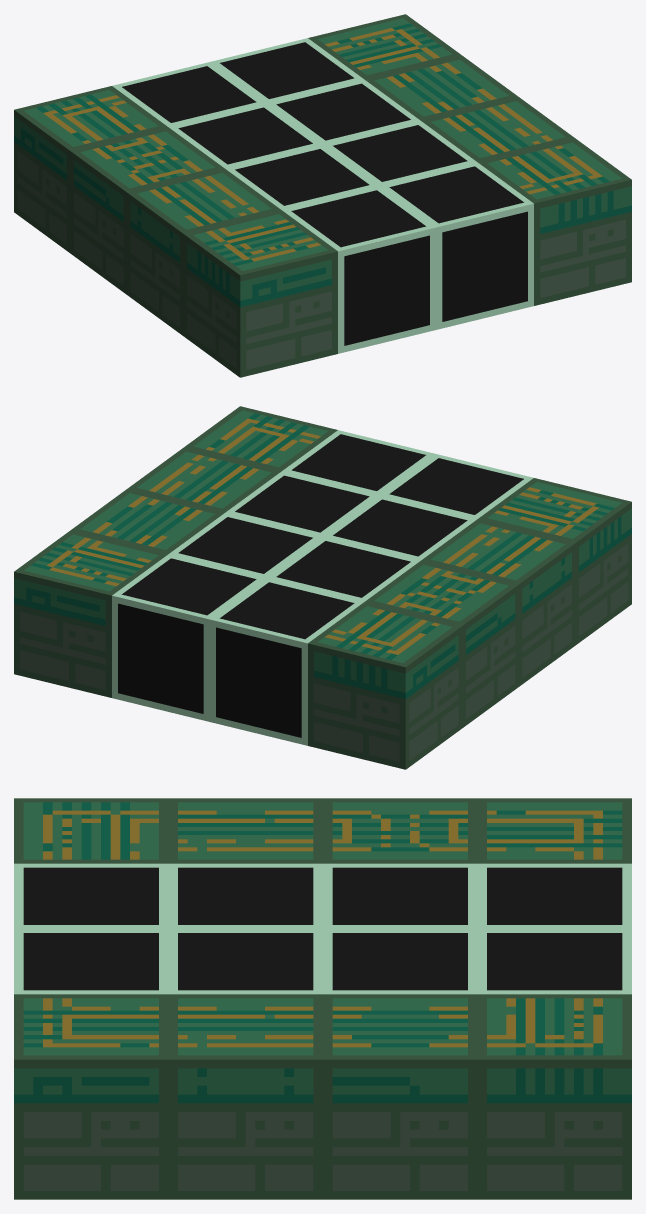
File: m_tiles_8_4x4.fbx
The picture shows the model from 3 angles, top to bottom: view 1: azimuth 30°, elevation 25°; view 2: azimuth 150°, elevation 25°; view 3: azimuth 270°, elevation 25°; orthographic projection. The views are drawn at different scales.
Visible parts, largest first — view 1: m_tiles_8_4x4; view 2: m_tiles_8_4x4; view 3: m_tiles_8_4x4.
Part boxes in pixels (bbox=[...]): m_tiles_8_4x4: bbox=[14, 14, 631, 377]; m_tiles_8_4x4: bbox=[14, 406, 631, 769]; m_tiles_8_4x4: bbox=[14, 798, 631, 1199].
Bounding box in the file's own units: 6.4 × 1.6 × 6.4.
Materials: 1 (1 with a texture image).
